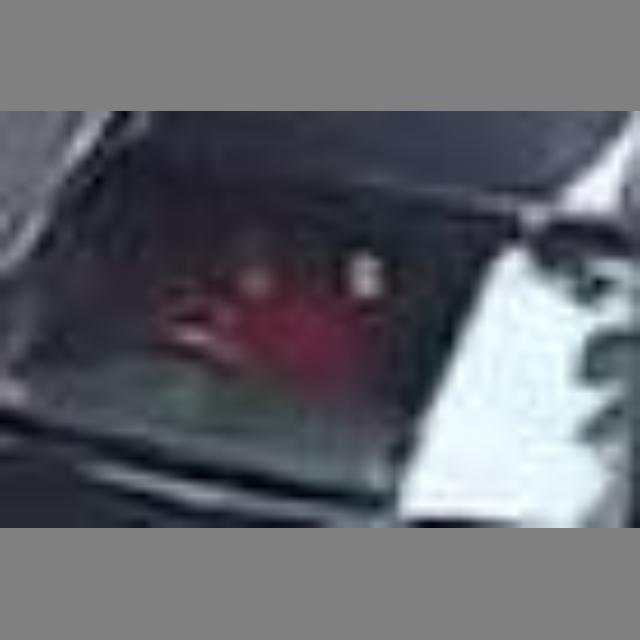tidak-pakai: (121, 222, 380, 408)
